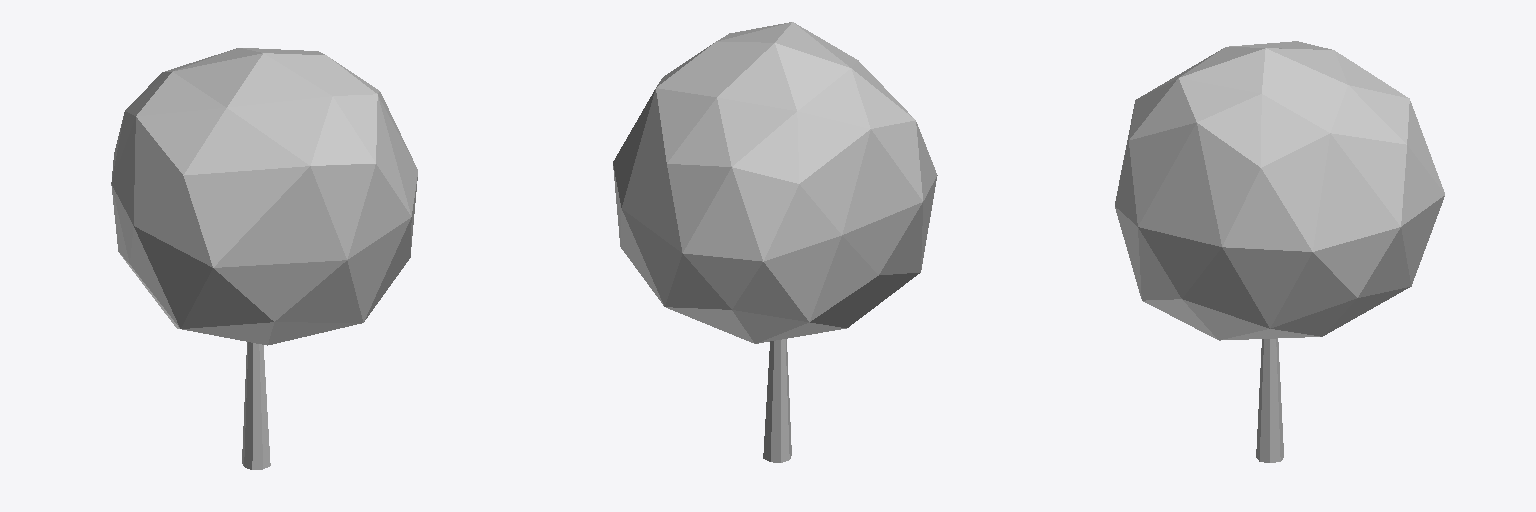
The model's file is tree-ash3.obj.
3 renders of one model, left to right at view 1: azimuth 30°, elevation 25°; view 2: azimuth 150°, elevation 25°; view 3: azimuth 270°, elevation 25°, orthographic.
Parts seen in each view (by area): view 1: stalk_Cube.001; view 2: stalk_Cube.001; view 3: stalk_Cube.001.
Part boxes in pixels (left/top/right/bottom): stalk_Cube.001: left=111, top=48, right=417, bottom=469; stalk_Cube.001: left=613, top=22, right=937, bottom=462; stalk_Cube.001: left=1115, top=41, right=1444, bottom=462.
Size of the model in its own units: 4.23 by 6.05 by 4.37.